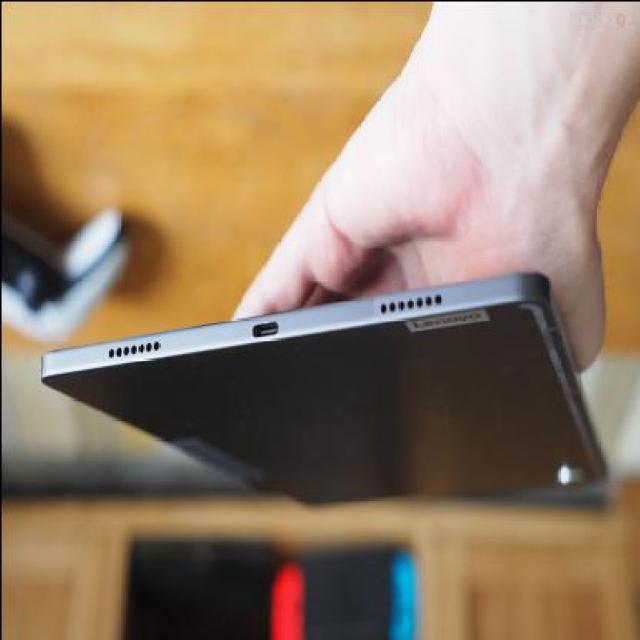tablet: (87, 287, 640, 550)
